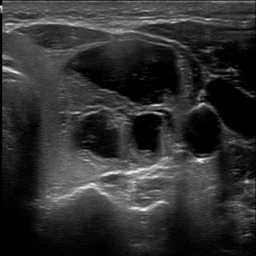mass: (67, 44, 195, 172)
